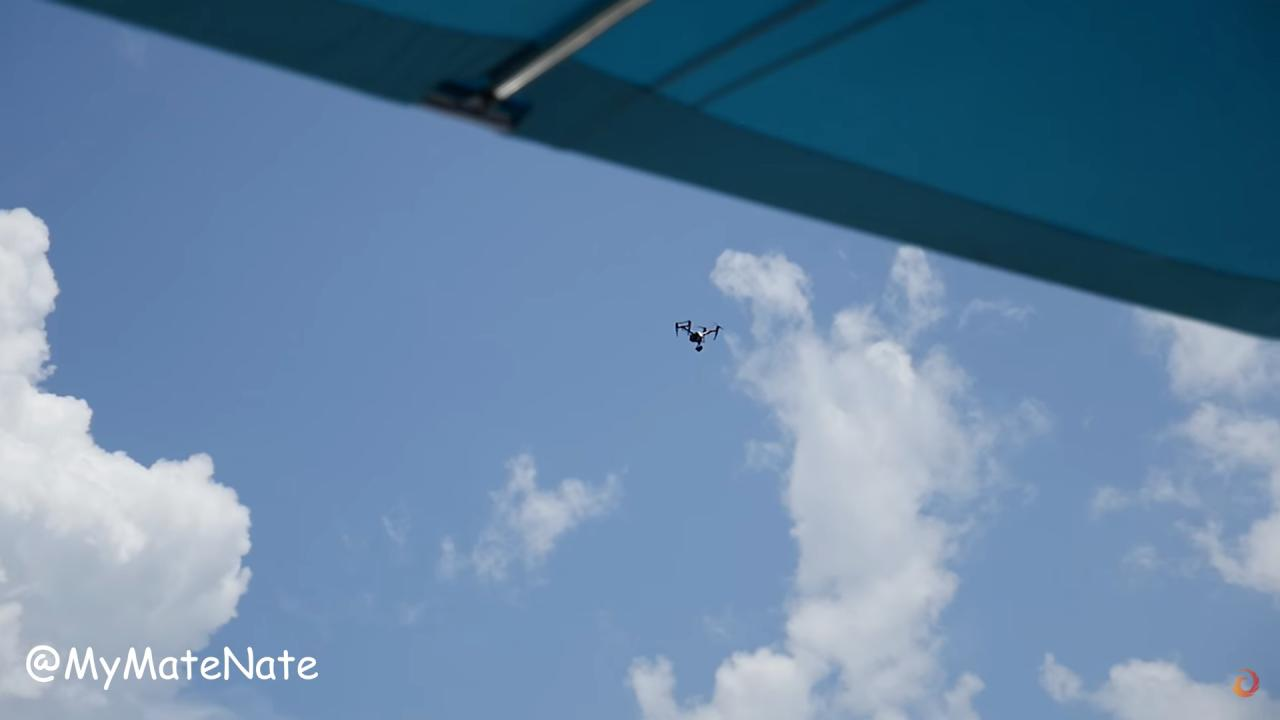Drone: (666, 312, 731, 360)
